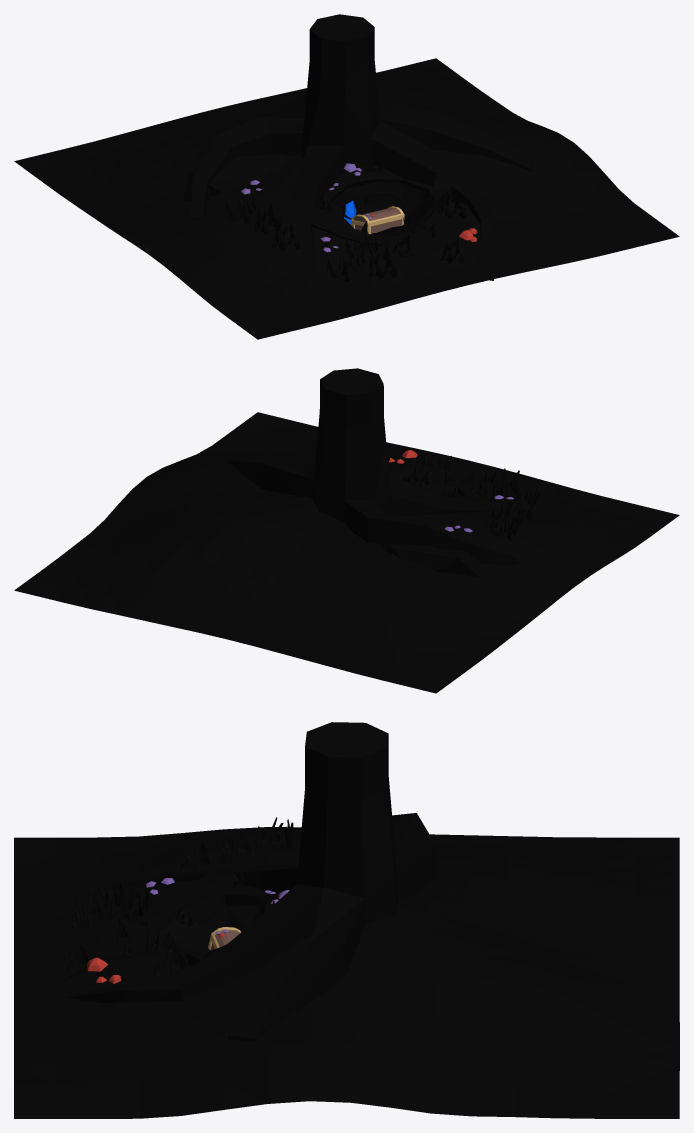
Rendered from treasure_glow.dae.
3 views of the same model, one above another, from view 1: azimuth 30°, elevation 25°; view 2: azimuth 150°, elevation 25°; view 3: azimuth 270°, elevation 25° (orthographic). The views are drawn at different scales.
Parts seen in each view (by area): view 1: Plane, Cylinder, Icosphere, chest; view 2: Plane, Cylinder, Icosphere; view 3: Plane, Cylinder.
Boxes of the visible parts, left/top/right/bottom form: Plane: left=14, top=58, right=679, bottom=339; Cylinder: left=191, top=14, right=532, bottom=287; Icosphere: left=183, top=154, right=288, bottom=201; chest: left=351, top=206, right=404, bottom=234; Plane: left=14, top=412, right=679, bottom=693; Cylinder: left=228, top=368, right=553, bottom=565; Icosphere: left=381, top=543, right=481, bottom=577; Plane: left=14, top=827, right=679, bottom=1118; Cylinder: left=68, top=722, right=436, bottom=1041.
Bounding box in the file's own units: 15.15 × 15.01 × 6.85.
